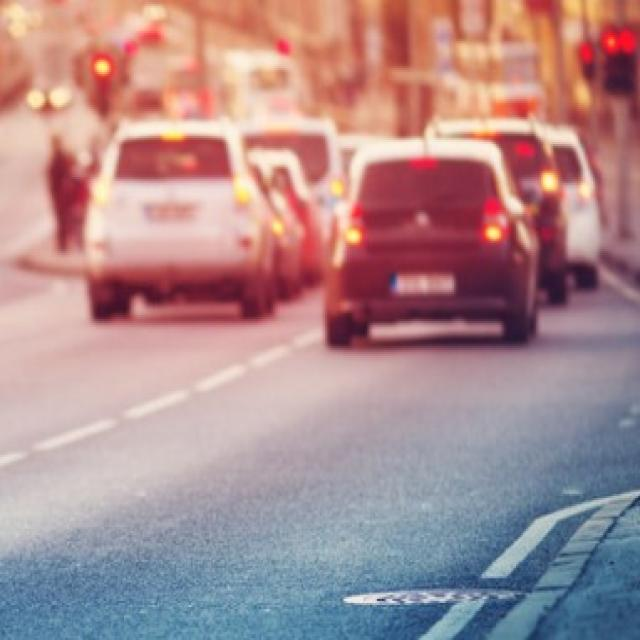car: (328, 136, 543, 350), (82, 121, 276, 320)
